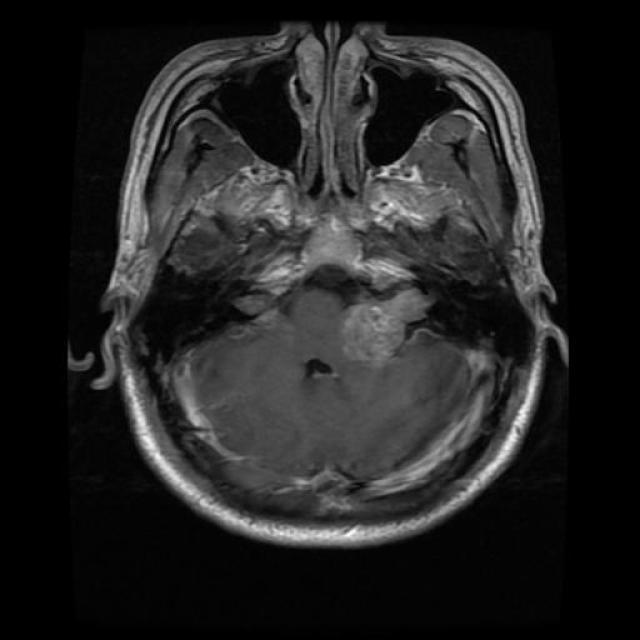meningioma: (339, 289, 429, 372)
